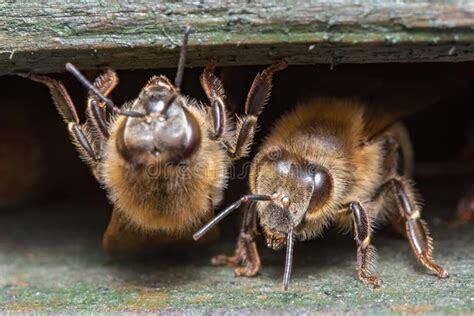worker-bee: (27, 27, 286, 253), (193, 98, 448, 289)
